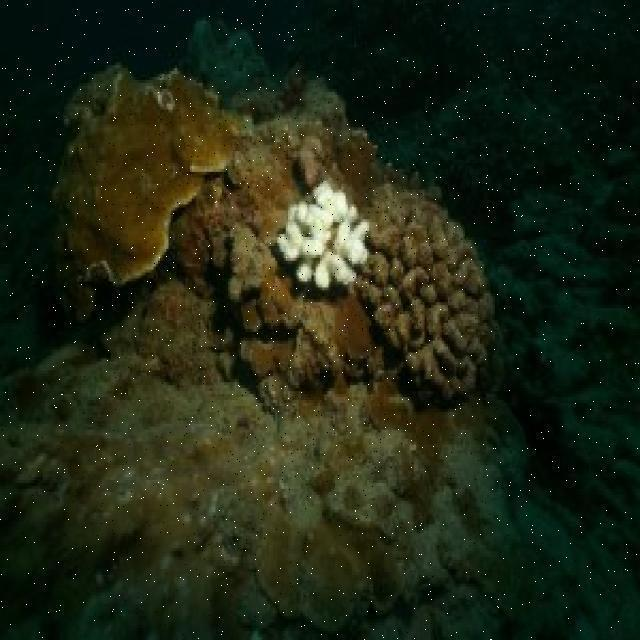Bleached: (280, 184, 369, 292)
Healthy: (50, 70, 229, 290), (368, 187, 496, 393), (262, 87, 343, 184), (141, 295, 214, 389), (292, 296, 333, 383), (229, 227, 279, 297), (201, 183, 280, 221), (331, 129, 384, 178), (337, 295, 369, 367), (242, 337, 293, 374)
